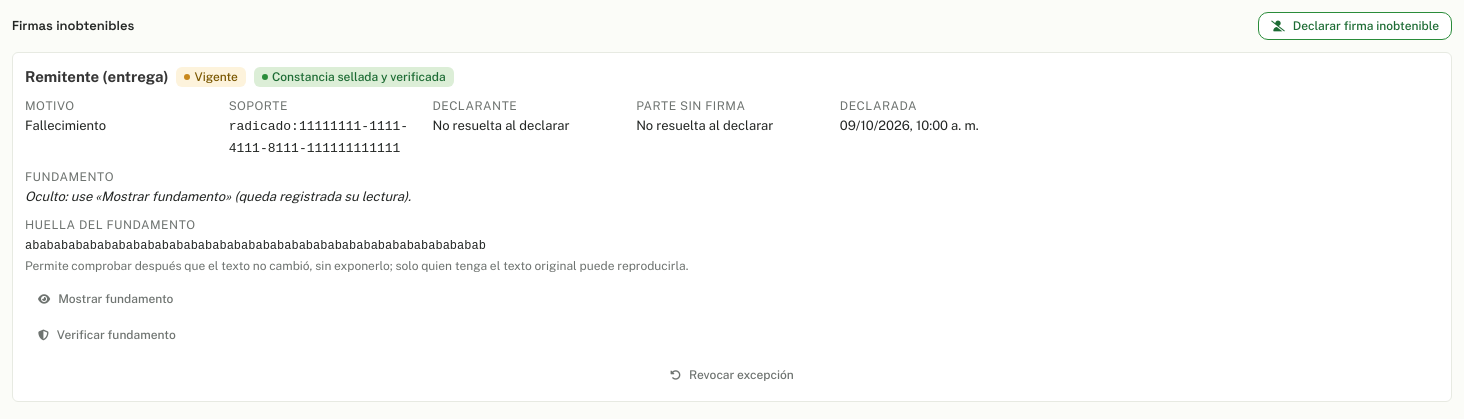
Test: ExcepcionesFirma — lista y revocación › el fundamento se carga bajo demanda, una sola vez, y se descarta al ocultarlo
Expected: the text "Falleció el titular del cargo." is not shown
Click the 2nd button named "mostrar fundamento": (106, 299) x1=25 y1=285 x2=186 y2=313
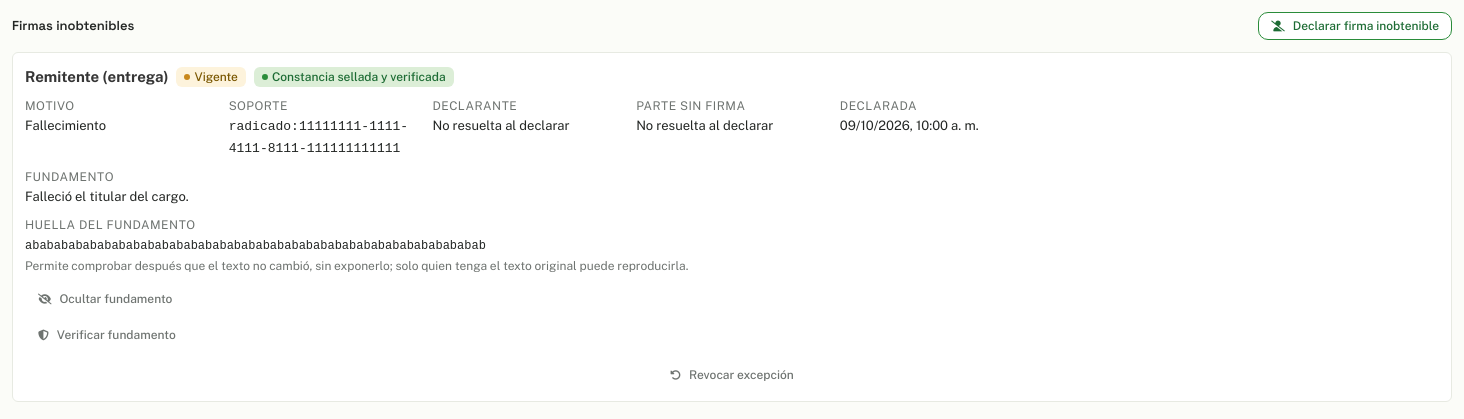
Now the text "Falleció el titular del cargo." is shown, box x1=25 y1=189 x2=189 y2=204
Click the 2nd button named "ocultar fundamento": (105, 299) x1=25 y1=285 x2=185 y2=313
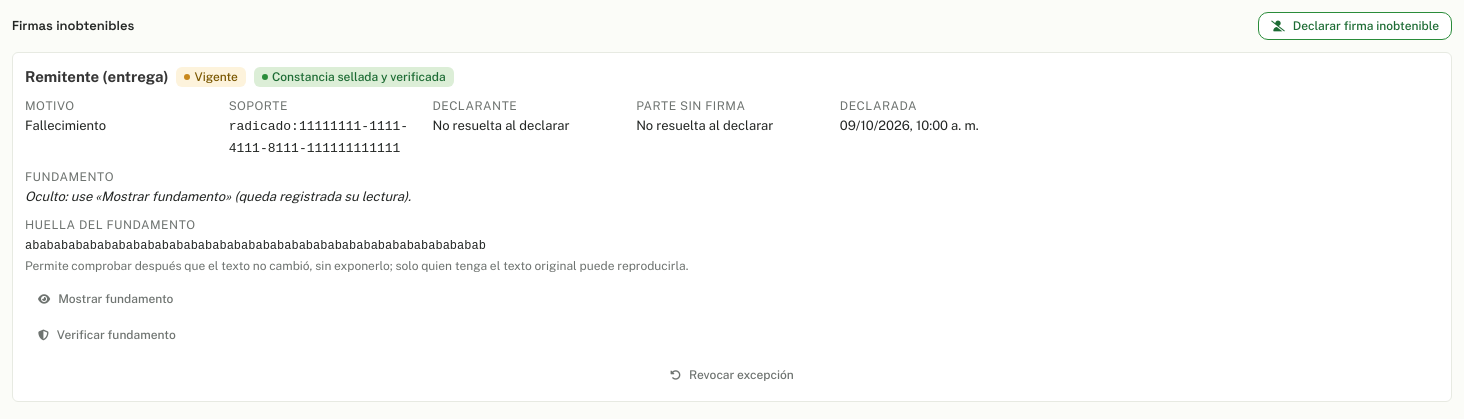
Now the text "Falleció el titular del cargo." is gone
